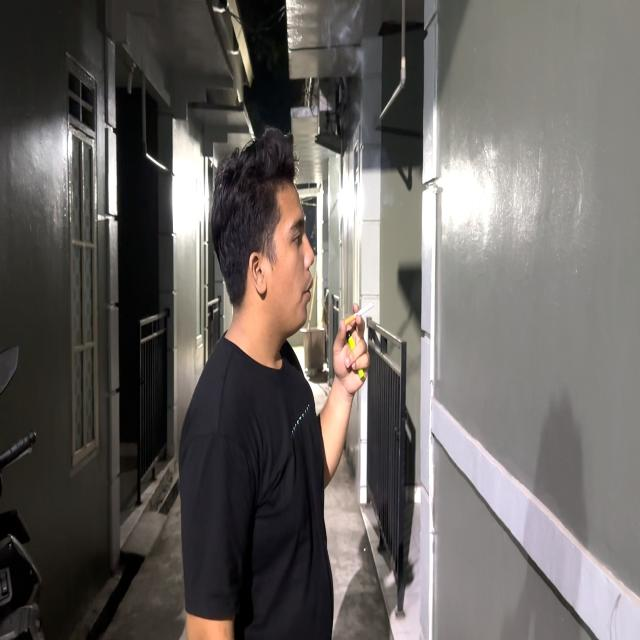cigarette: (339, 294, 384, 345)
smoking: (209, 109, 384, 493)
